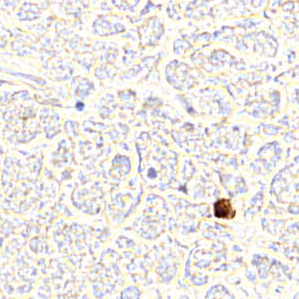Lymphocyte: (211, 197, 237, 221)
